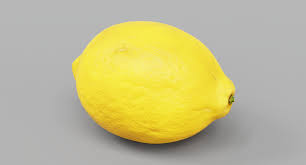Lemon: (68, 12, 235, 140)
